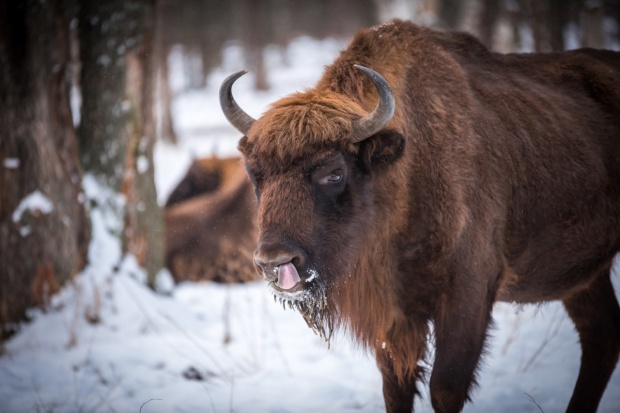zubr: (211, 6, 620, 407)
